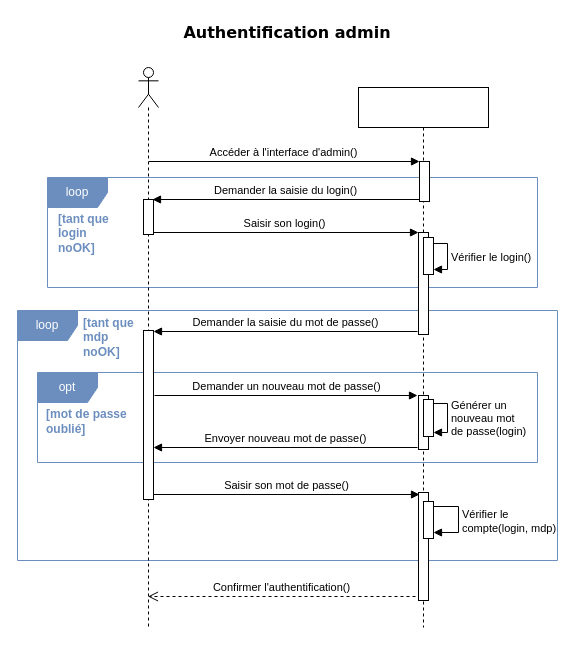
This 575x645 diagram has some shape labels left out. The centre of each missing label's shape, as x and y in pixels:
":System" belongs at point 423,357.
":User" belongs at point 148,347.
